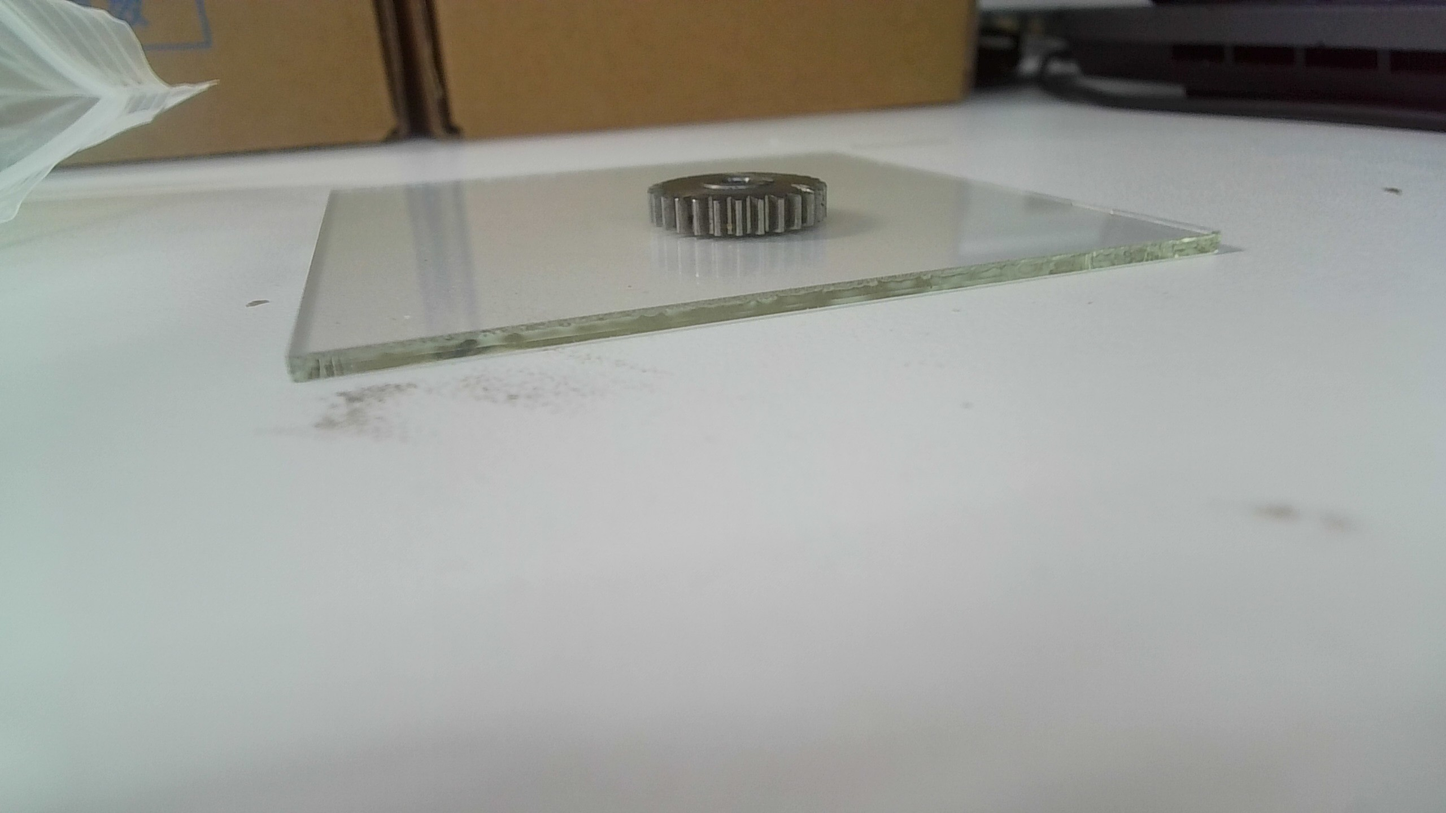gear: (644, 171, 835, 240)
